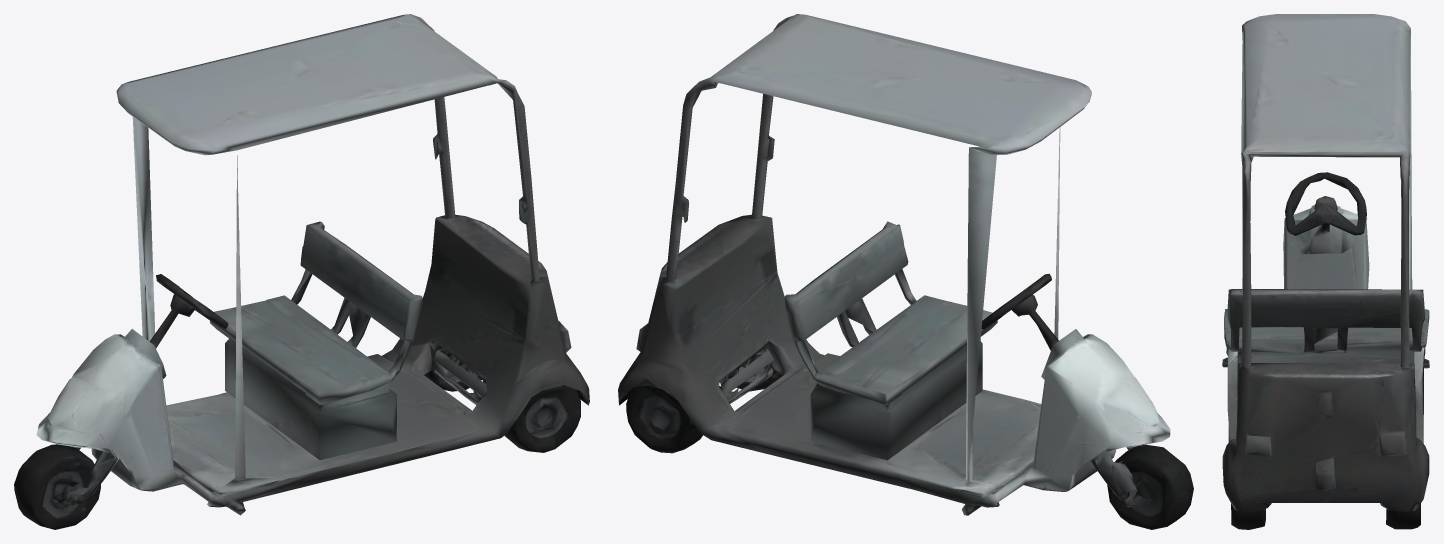
3 renders of one model, left to right at view 1: azimuth 30°, elevation 25°; view 2: azimuth 150°, elevation 25°; view 3: azimuth 270°, elevation 25°, orthographic. The views are drawn at different scales.
Size of the model in its own units: 1.88 by 1.31 by 0.6816.
1 material, 1 textured.
